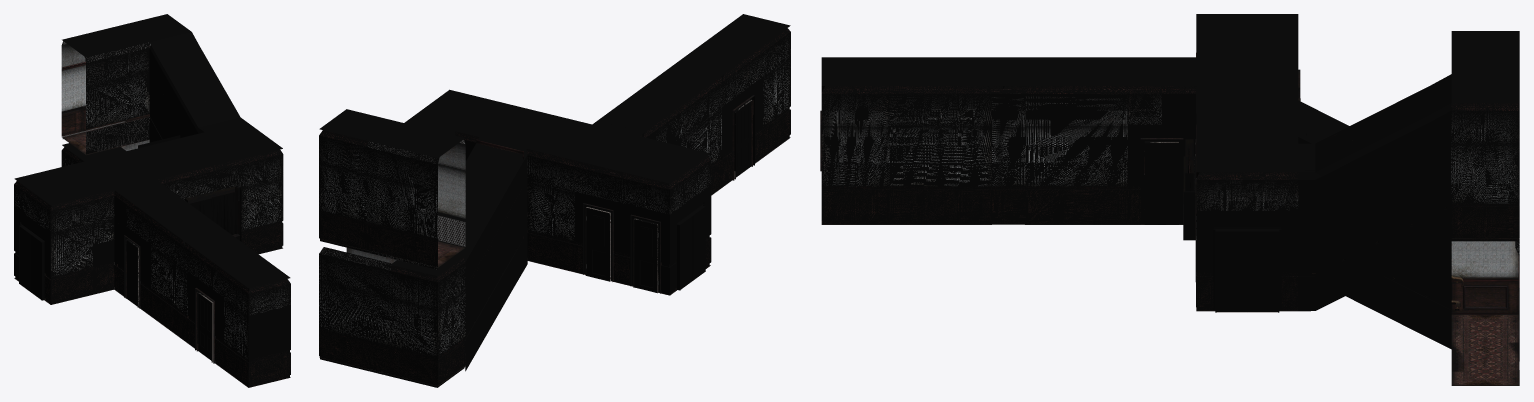
File: hotel_upstairs_hallway.glb
The picture shows the model from 3 angles, left to right: view 1: azimuth 30°, elevation 25°; view 2: azimuth 150°, elevation 25°; view 3: azimuth 270°, elevation 25°; orthographic projection. The views are drawn at different scales.
Visible parts, largest first — view 1: Material2, Material3 (×4); view 2: Material2, Material3 (×3); view 3: Material2, Material3 (×3).
Boxes of the visible parts, x1,y1,x2,y2 form: Material2: (14,14,290,387); Material3 (×4): (14,41,290,386); Material2: (319,14,790,387); Material3 (×3): (319,30,790,387); Material2: (821,14,1519,349); Material3 (×3): (821,53,1519,385).
Bounding box in the file's own units: 493 × 413 × 904.
Materials: 15 (15 with a texture image).
